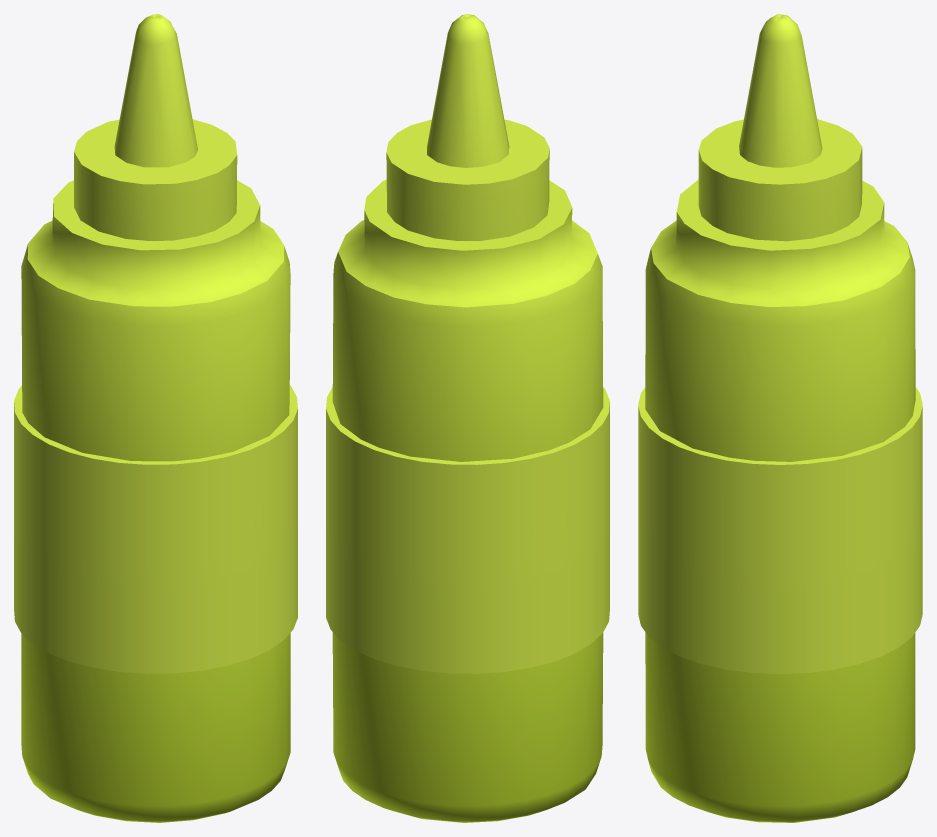
The model's file is dressing_mayo.fbx.
3 renders of one model, left to right at view 1: azimuth 30°, elevation 25°; view 2: azimuth 150°, elevation 25°; view 3: azimuth 270°, elevation 25°, orthographic.
Parts seen in each view (by area): view 1: dressing_mayo; view 2: dressing_mayo; view 3: dressing_mayo.
Part boxes in pixels (x1=…): dressing_mayo: x1=14, y1=14, x2=297, y2=822; dressing_mayo: x1=326, y1=14, x2=609, y2=822; dressing_mayo: x1=638, y1=14, x2=922, y2=822.
Size of the model in its own units: 42.68 by 126 by 42.68.
